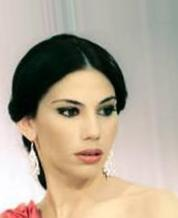face: (55, 101, 117, 165)
